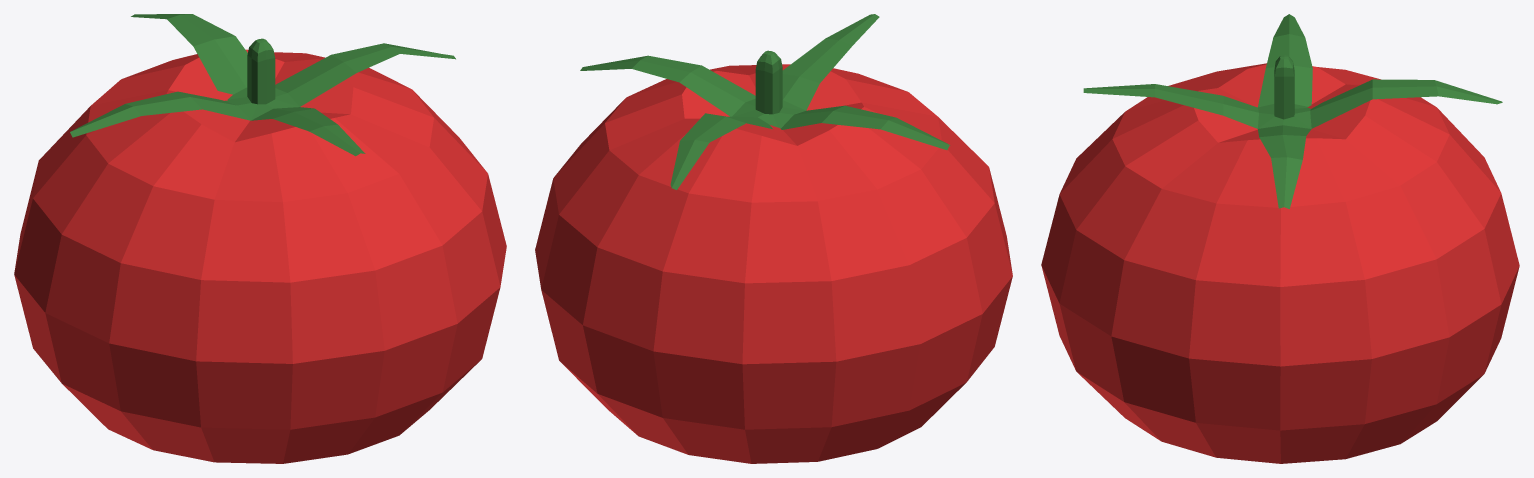
Rendered from ING_tomatoWholeV03.fbx.
The picture shows the model from 3 angles, left to right: view 1: azimuth 30°, elevation 25°; view 2: azimuth 150°, elevation 25°; view 3: azimuth 270°, elevation 25°; orthographic projection. The views are drawn at different scales.
Parts seen in each view (by area): view 1: Whole Tomato; view 2: Whole Tomato; view 3: Whole Tomato.
Boxes of the visible parts, box(x1,y1,x2,y2) form: Whole Tomato: box(14, 14, 506, 463); Whole Tomato: box(535, 14, 1012, 463); Whole Tomato: box(1041, 14, 1519, 463).
Size of the model in its own units: 76.71 by 65 by 76.71.
